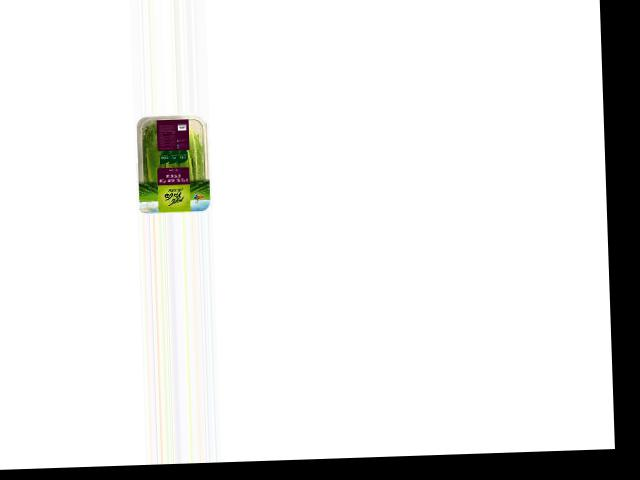lettuce: (136, 114, 211, 206)
